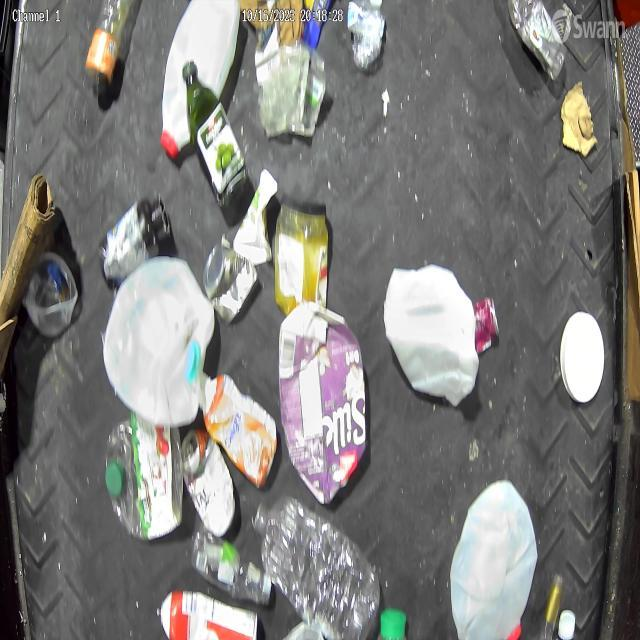can: (179, 424, 242, 542), (204, 230, 247, 333)
milk_jug: (101, 258, 202, 438), (382, 255, 476, 405), (158, 0, 242, 162), (446, 470, 524, 640)
plastic_bottle: (249, 493, 377, 640), (104, 416, 186, 550), (82, 0, 136, 111), (342, 0, 391, 76)
